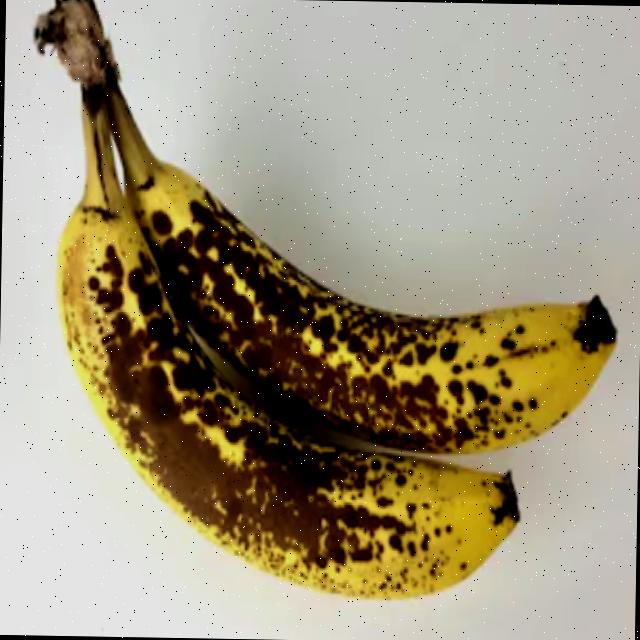rotten banana: (0, 27, 610, 624)
